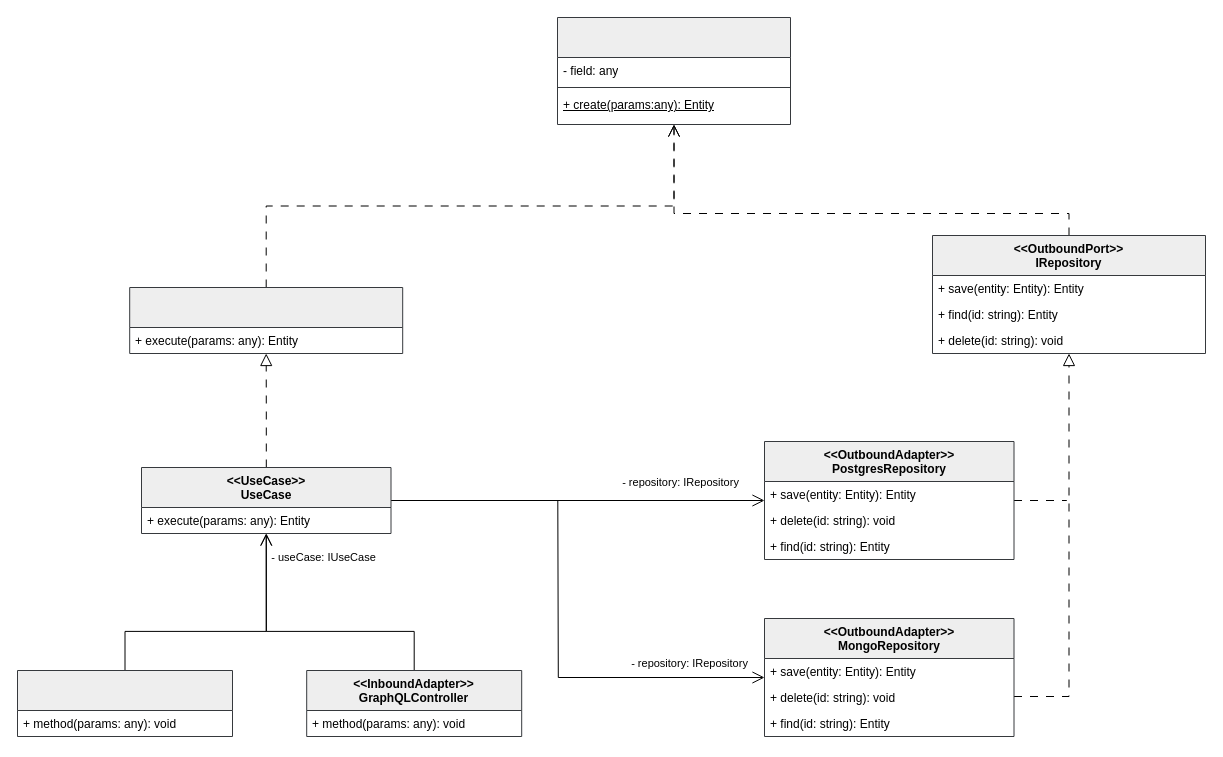
The diagram is 1223 pixels wide and 757 high, and some of its shapes have lost their labels. The shapes that lost their labels are listed below. From the top down, each one's box as (x1, y1, x2, y2) in pixels, then its label:
(556, 16, 790, 124): <<Entity>> Entity
(129, 286, 403, 354): <<InboundPort>> IUseCase
(16, 670, 232, 736): <<InboundAdapter>> RestController
